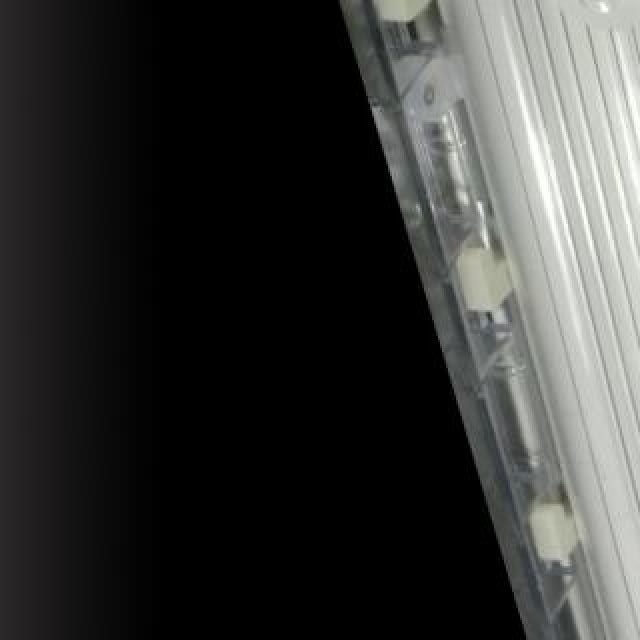fluorescent tube: (370, 0, 640, 640)
